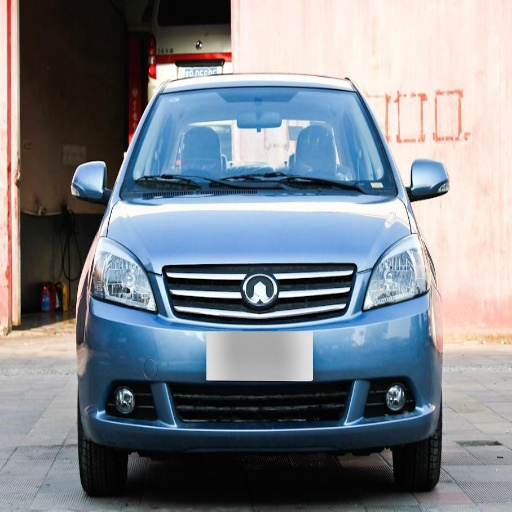front_bumper: (87, 269, 441, 451)
front_right_light: (86, 239, 155, 312)
hood: (108, 195, 412, 328)
left_mirror: (408, 160, 450, 201)
